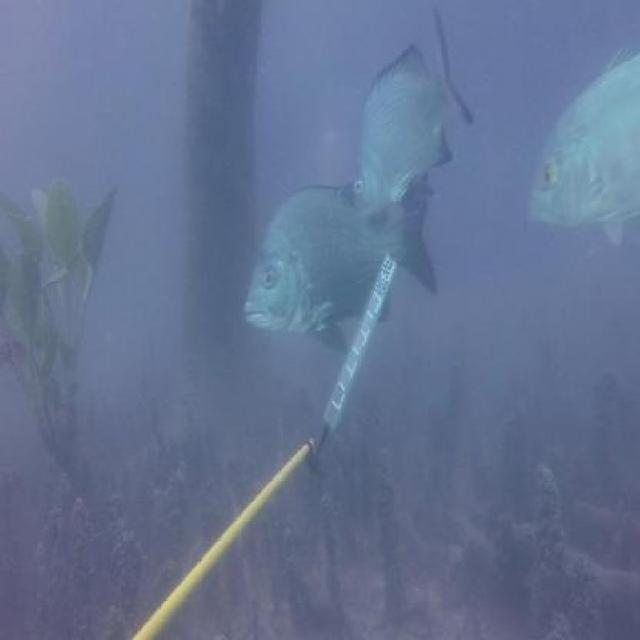Caranx: (518, 37, 640, 252)
acanthopagrus_palmaris: (242, 173, 442, 361), (352, 2, 476, 222)
